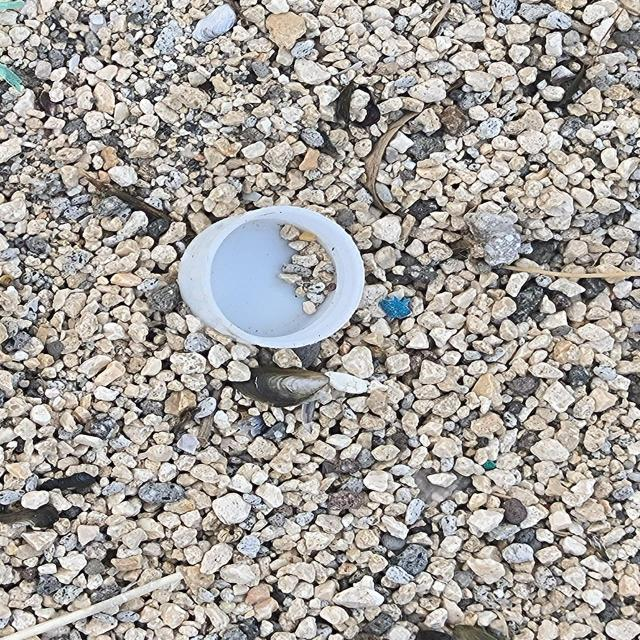plastic_waste: (179, 206, 369, 350)
